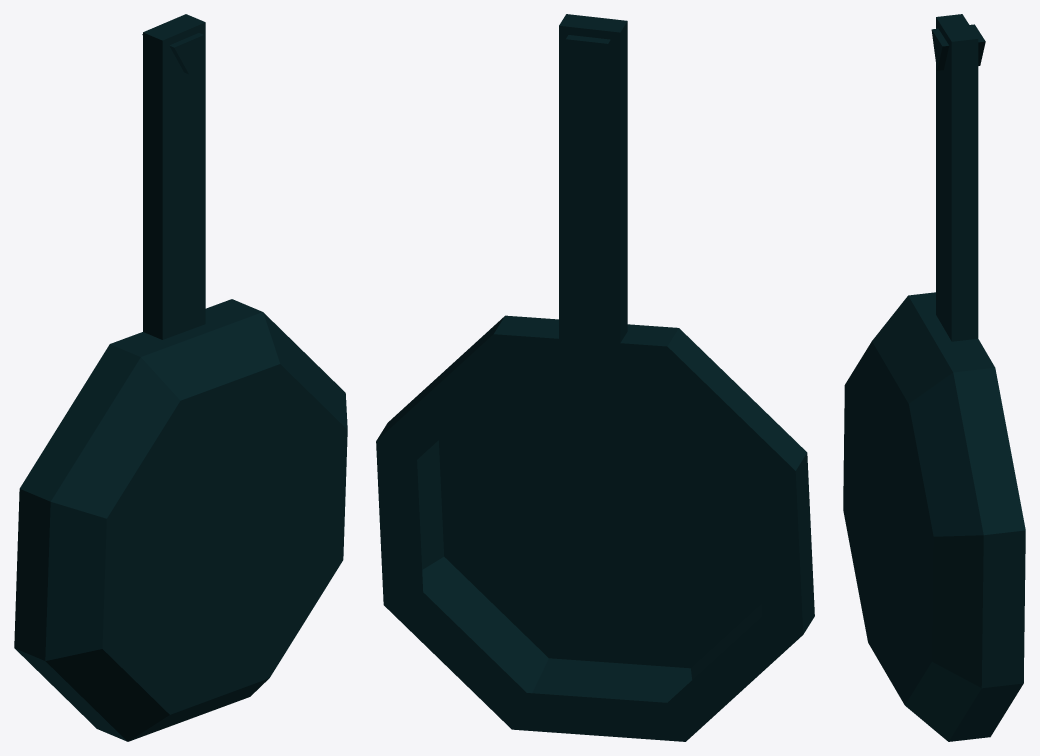
The model's file is KITCHEN INVENTORY 2.fbx.
The picture shows the model from 3 angles, left to right: view 1: azimuth 30°, elevation 25°; view 2: azimuth 150°, elevation 25°; view 3: azimuth 270°, elevation 25°; orthographic projection. The views are drawn at different scales.
Visible parts, largest first — view 1: KITCHEN_INVENTORY_2; view 2: KITCHEN_INVENTORY_2; view 3: KITCHEN_INVENTORY_2.
Part boxes in pixels (x1,y1,x2,y2): KITCHEN_INVENTORY_2: (14,14,347,741); KITCHEN_INVENTORY_2: (376,14,814,741); KITCHEN_INVENTORY_2: (843,14,1025,741).
Bounding box in the file's own units: 45.84 × 81.82 × 19.93.
1 material, 1 textured.
